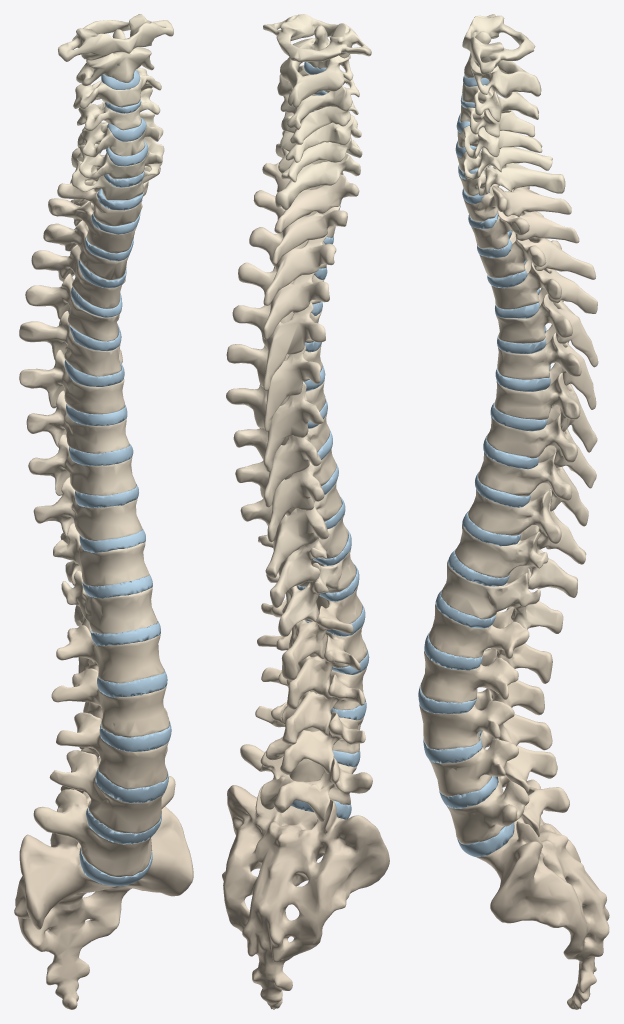
The model's file is spine.glb.
3 views of the same model, side by side, from view 1: azimuth 30°, elevation 25°; view 2: azimuth 150°, elevation 25°; view 3: azimuth 270°, elevation 25° (orthographic). The views are drawn at different scales.
Visible parts, largest first — view 1: Spine_Thoracic, Spine_Lumbar, Spine_IntervertebralDiscs, Spine_Sacral, Spine_Cervical; view 2: Spine_Thoracic, Spine_Sacral, Spine_Lumbar, Spine_Cervical, Spine_IntervertebralDiscs; view 3: Spine_Thoracic, Spine_Lumbar, Spine_Cervical, Spine_IntervertebralDiscs, Spine_Sacral.
Boxes of the visible parts, box(x1,y1,x2,y2) form: Spine_Thoracic: box(19, 166, 160, 633); Spine_Lumbar: box(33, 625, 175, 877); Spine_IntervertebralDiscs: box(64, 69, 171, 886); Spine_Sacral: box(14, 806, 193, 1009); Spine_Cervical: box(58, 14, 173, 200); Spine_Thoracic: box(226, 162, 359, 636); Spine_Sacral: box(222, 785, 389, 1009); Spine_Lumbar: box(240, 584, 372, 822); Spine_Cervical: box(263, 14, 371, 210); Spine_IntervertebralDiscs: box(291, 62, 369, 819); Spine_Thoracic: box(441, 167, 598, 633); Spine_Lumbar: box(419, 604, 569, 844); Spine_Cervical: box(457, 14, 565, 196); Spine_IntervertebralDiscs: box(418, 75, 550, 857); Spine_Sacral: box(477, 779, 609, 1009).
Size of the model in its own units: 0.1178 by 0.6986 by 0.1232.
